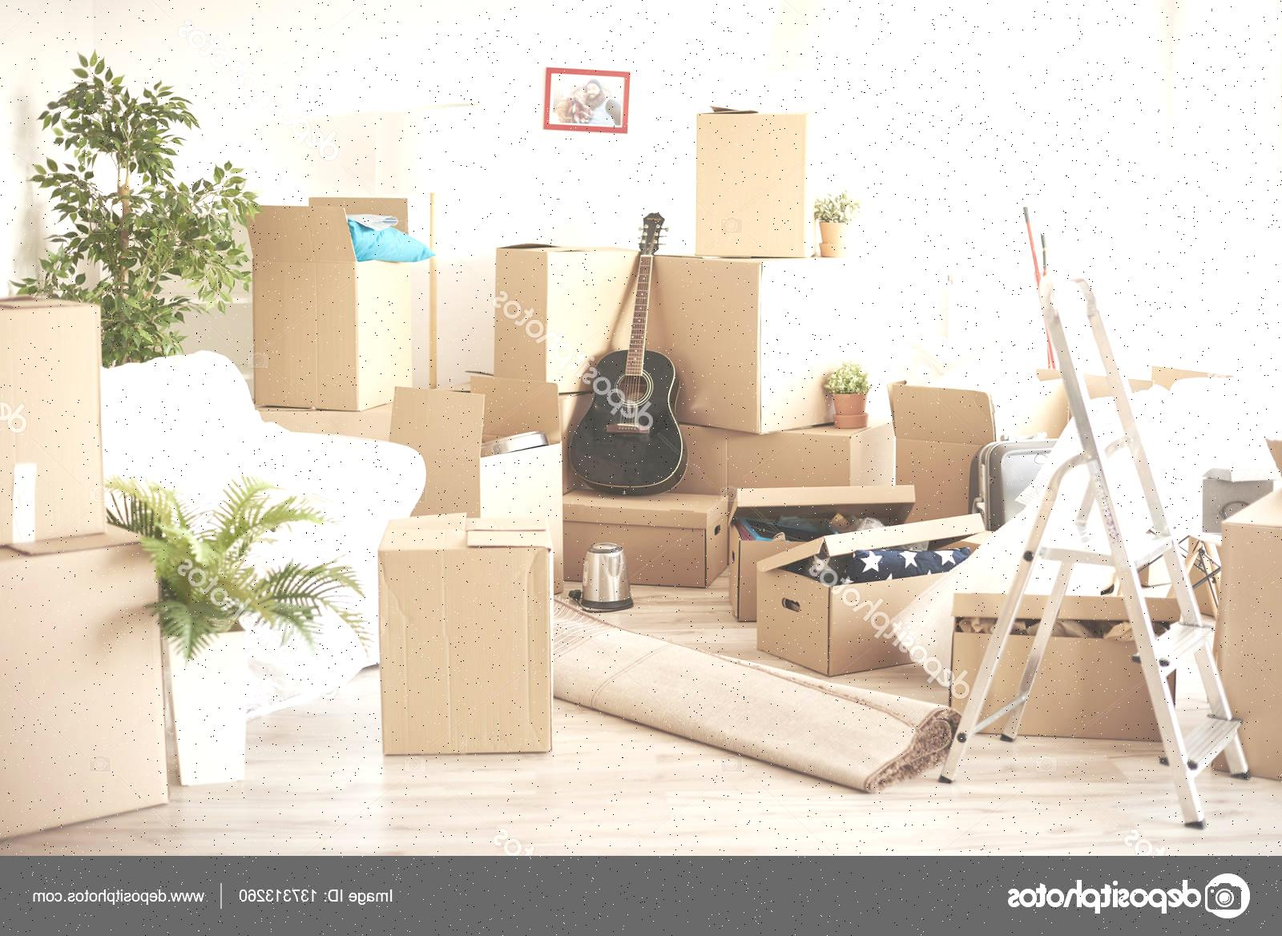Box: (0, 526, 168, 838), (378, 516, 553, 755), (646, 257, 866, 433), (756, 513, 984, 676), (248, 198, 413, 411), (248, 205, 411, 411), (0, 298, 105, 546), (729, 486, 914, 620), (493, 243, 637, 393), (1214, 488, 1282, 780), (696, 108, 821, 258), (563, 491, 729, 589), (886, 383, 997, 521), (726, 418, 896, 487)
